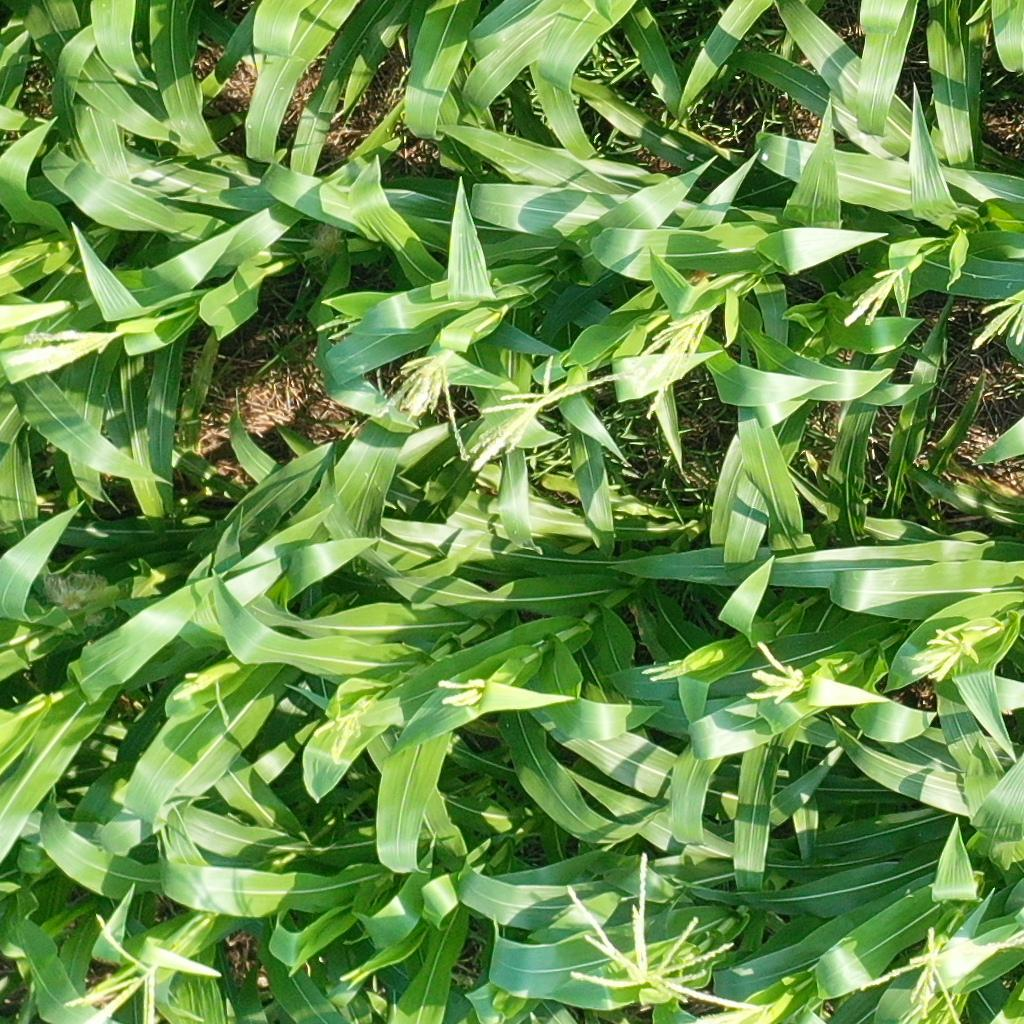Tassel: (560, 854, 767, 1016), (468, 351, 633, 472), (850, 918, 1024, 1024), (603, 305, 721, 427), (362, 347, 481, 466), (65, 911, 169, 1024), (7, 323, 128, 384), (842, 264, 920, 334), (308, 695, 380, 767), (907, 620, 979, 691), (747, 634, 810, 705), (962, 287, 1024, 355), (173, 669, 237, 723), (435, 673, 489, 713), (638, 656, 696, 693)
